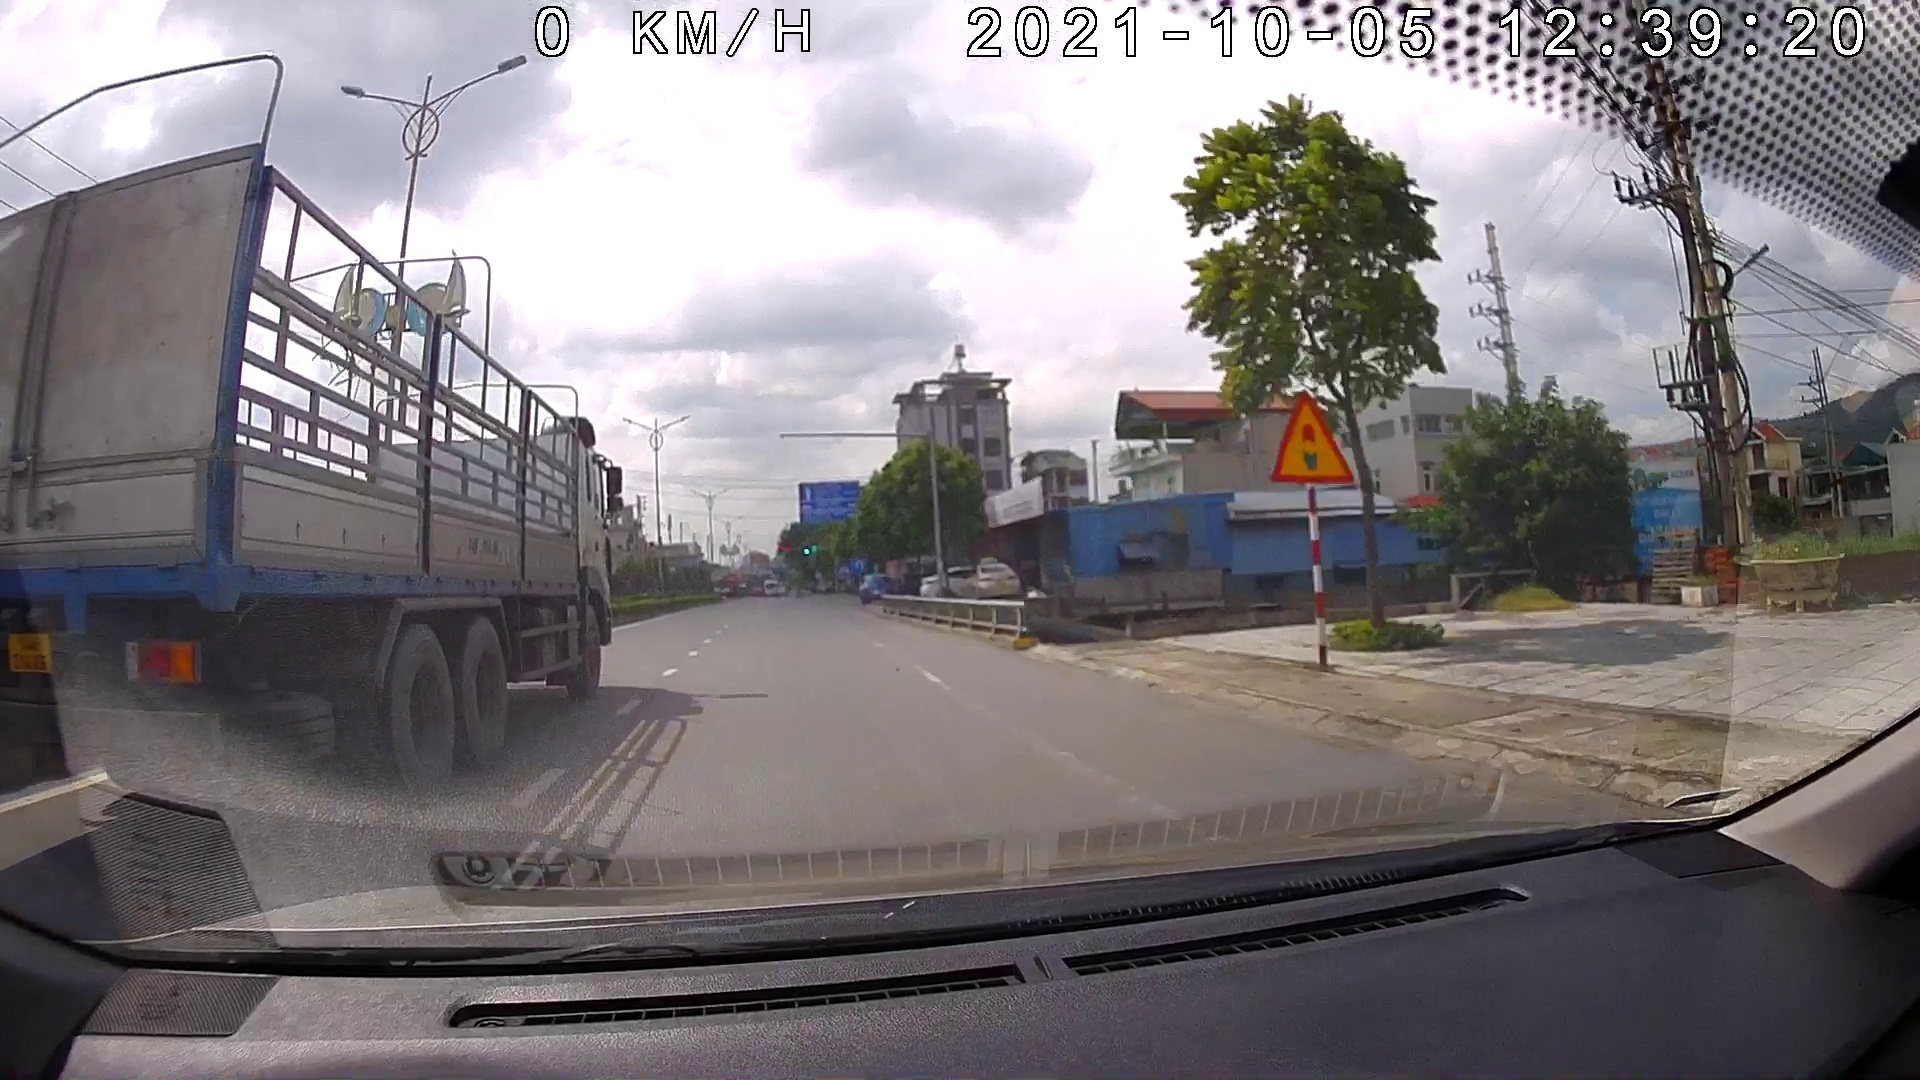Bien khac: (1265, 386, 1360, 485)
